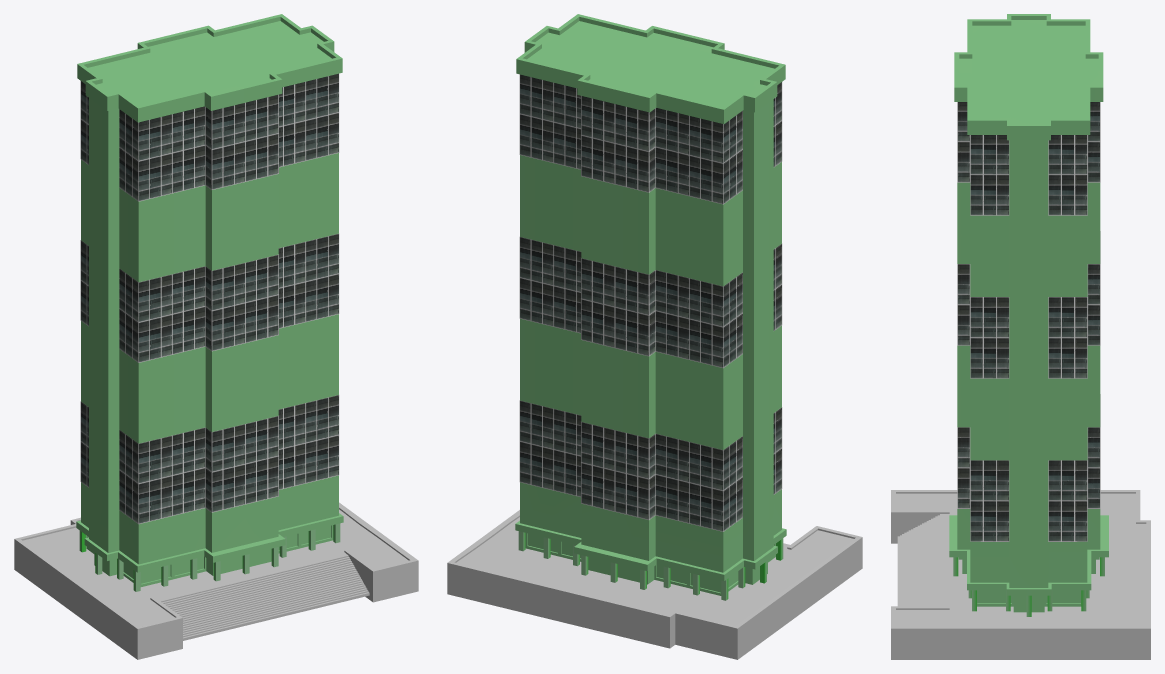
File: downtown_skyscraper_9.FBX
3 renders of one model, left to right at view 1: azimuth 30°, elevation 25°; view 2: azimuth 150°, elevation 25°; view 3: azimuth 270°, elevation 25°, orthographic.
Parts seen in each view (by area): view 1: downtown_skyscraper_9, em_win_dwtn_skyscraper_9, platform_dtw_skyscraper_9; view 2: downtown_skyscraper_9, em_win_dwtn_skyscraper_9, platform_dtw_skyscraper_9; view 3: downtown_skyscraper_9, platform_dtw_skyscraper_9, em_win_dwtn_skyscraper_9.
Boxes of the visible parts, x1=… form: downtown_skyscraper_9: x1=76, y1=14, x2=343, y2=591; em_win_dwtn_skyscraper_9: x1=80, y1=73, x2=339, y2=524; platform_dtw_skyscraper_9: x1=14, y1=502, x2=418, y2=659; downtown_skyscraper_9: x1=515, y1=14, x2=786, y2=600; em_win_dwtn_skyscraper_9: x1=519, y1=74, x2=782, y2=531; platform_dtw_skyscraper_9: x1=447, y1=510, x2=862, y2=659; downtown_skyscraper_9: x1=949, y1=14, x2=1108, y2=616; platform_dtw_skyscraper_9: x1=891, y1=490, x2=1150, y2=659; em_win_dwtn_skyscraper_9: x1=957, y1=102, x2=1100, y2=541.
Size of the model in its own units: 346 by 606 by 274.
